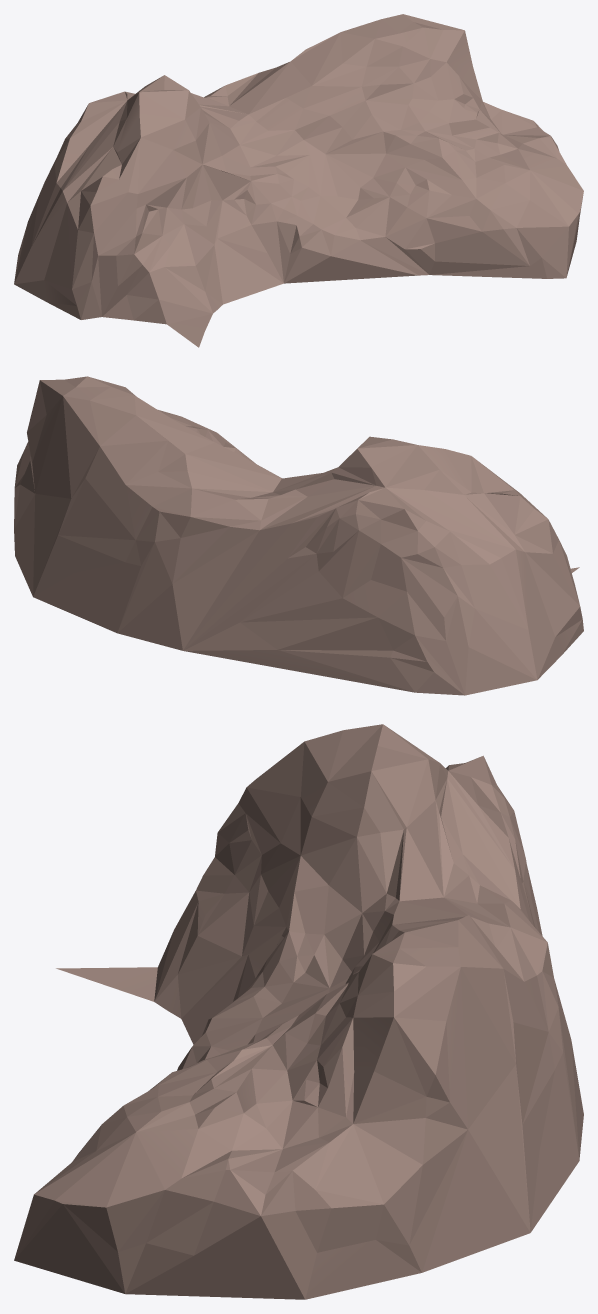
File: mountain.010.fbx
The picture shows the model from 3 angles, top to bottom: view 1: azimuth 30°, elevation 25°; view 2: azimuth 150°, elevation 25°; view 3: azimuth 270°, elevation 25°; orthographic projection. The views are drawn at different scales.
Visible parts, largest first — view 1: mountain_010; view 2: mountain_010; view 3: mountain_010.
Part boxes in pixels (x1,y1,x2,y2): mountain_010: (14,14,583,347); mountain_010: (14,376,583,695); mountain_010: (14,724,583,1299).
Bounding box in the file's own units: 37640 × 12988 × 23180.
